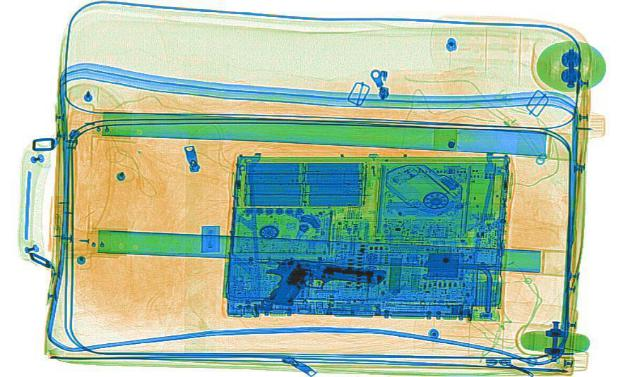Gun: (254, 251, 388, 318)
